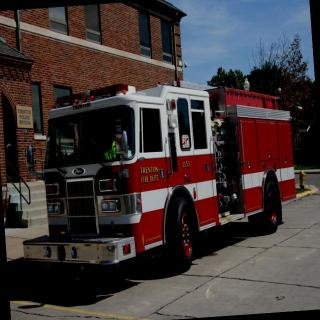Fire_truck: (12, 70, 302, 284)
